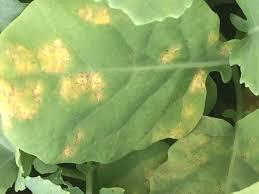Bok-Choy-Diseased: (1, 1, 216, 146)
